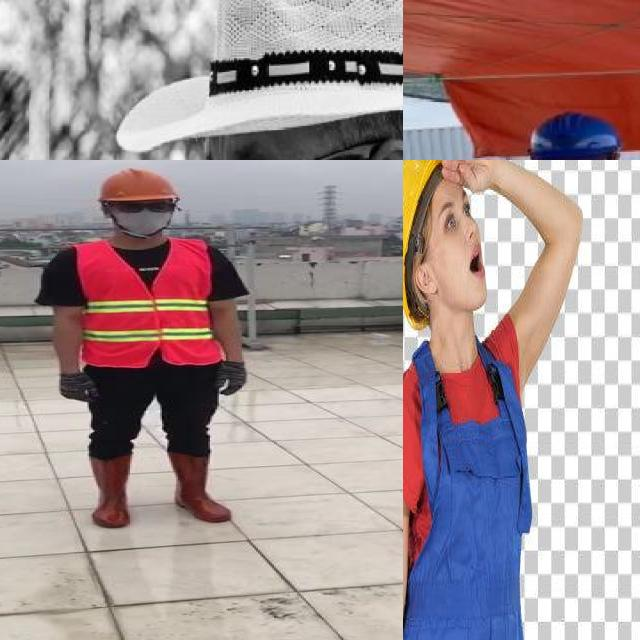No_Ear-Protection: (412, 259, 442, 306)
No_Glasses: (436, 186, 475, 242)
boots: (167, 452, 237, 523), (84, 454, 137, 530)
face_mask: (105, 198, 178, 235)
face_nomask: (448, 224, 488, 308)
glasses: (107, 196, 176, 216)
hand_glove: (214, 359, 249, 394), (59, 375, 100, 404)
hand_noglove: (442, 160, 491, 192)
head_helmet: (403, 160, 440, 328), (526, 112, 623, 160), (94, 167, 180, 204)
head_nohelmet: (120, 0, 403, 149)
person: (34, 164, 267, 531), (448, 108, 640, 160)
vest: (71, 239, 221, 366)
